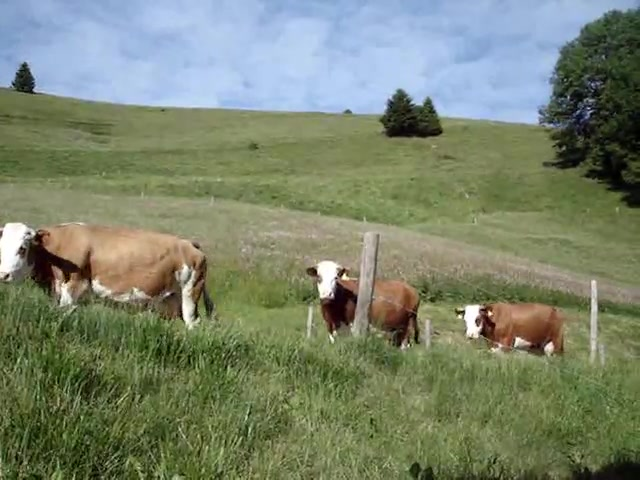cow: (1, 221, 217, 332)
